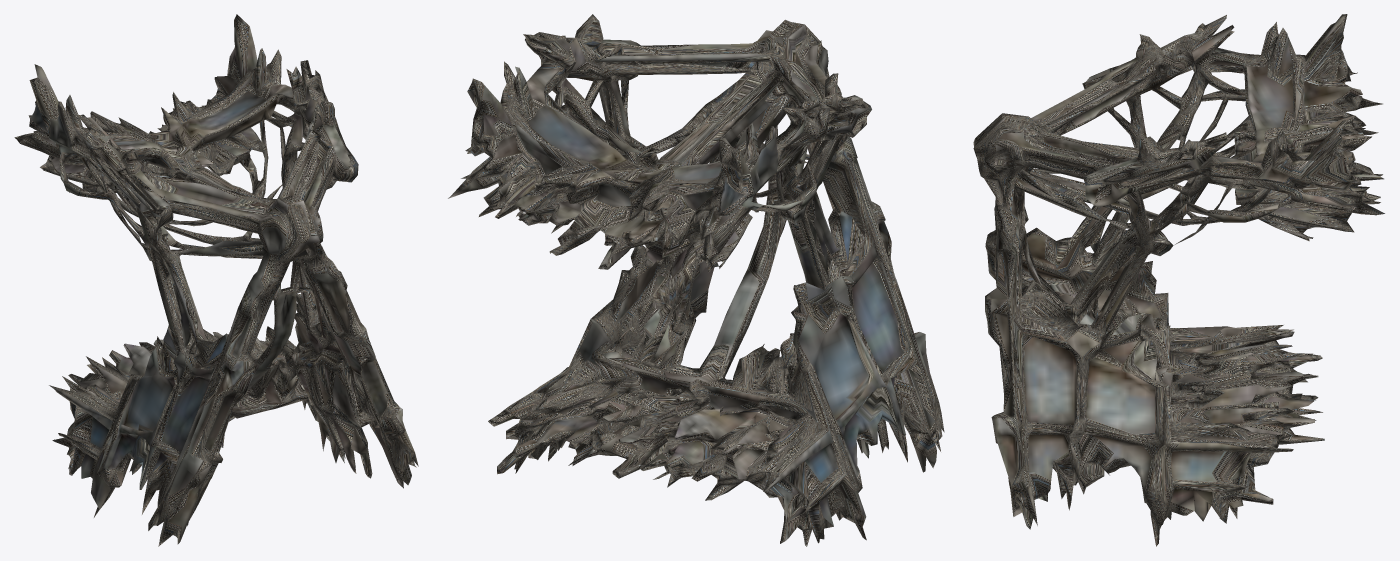
3 views of the same model, side by side, from view 1: azimuth 30°, elevation 25°; view 2: azimuth 150°, elevation 25°; view 3: azimuth 270°, elevation 25° (orthographic). The views are drawn at different scales.
Size of the model in its own units: 0.7345 by 1 by 0.9068.
1 material, 1 textured.
